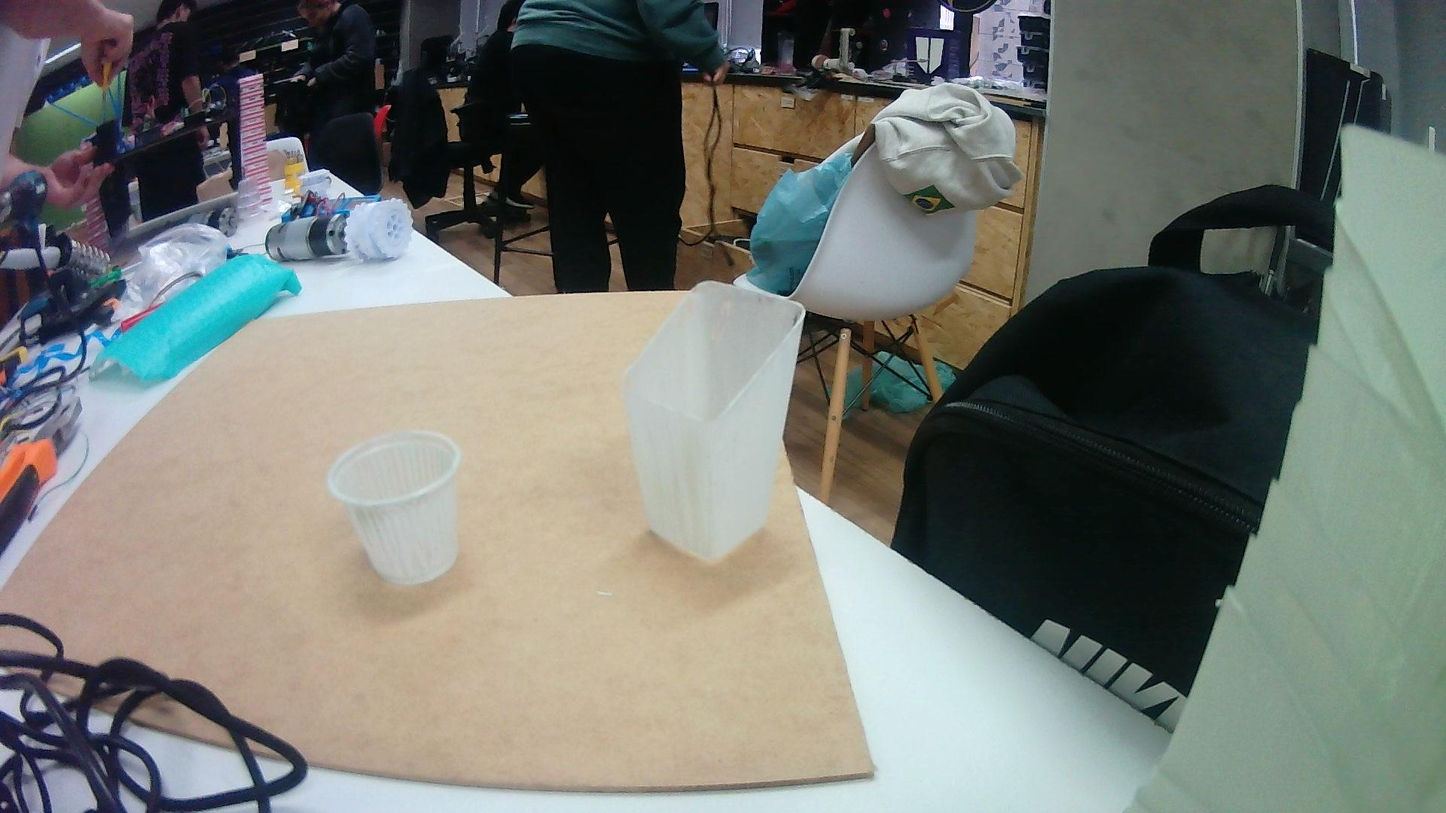erva_daninha: (623, 280, 807, 563)
planta: (325, 429, 464, 587)
